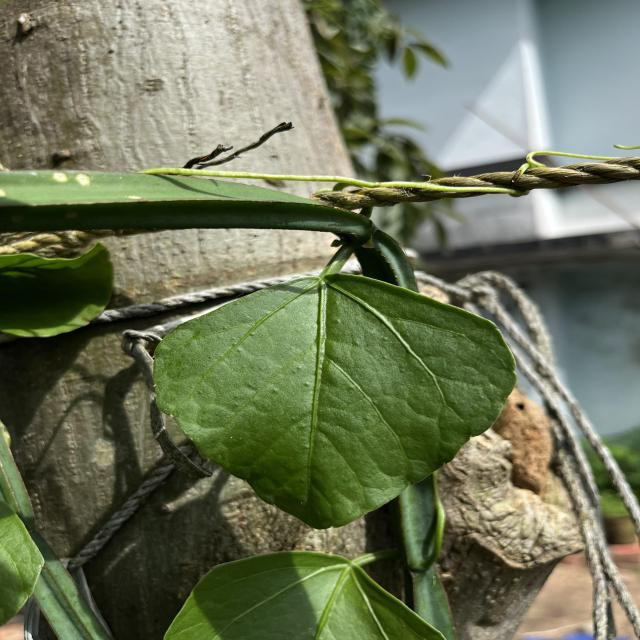Cissus quadrangularis: (151, 270, 520, 532)
